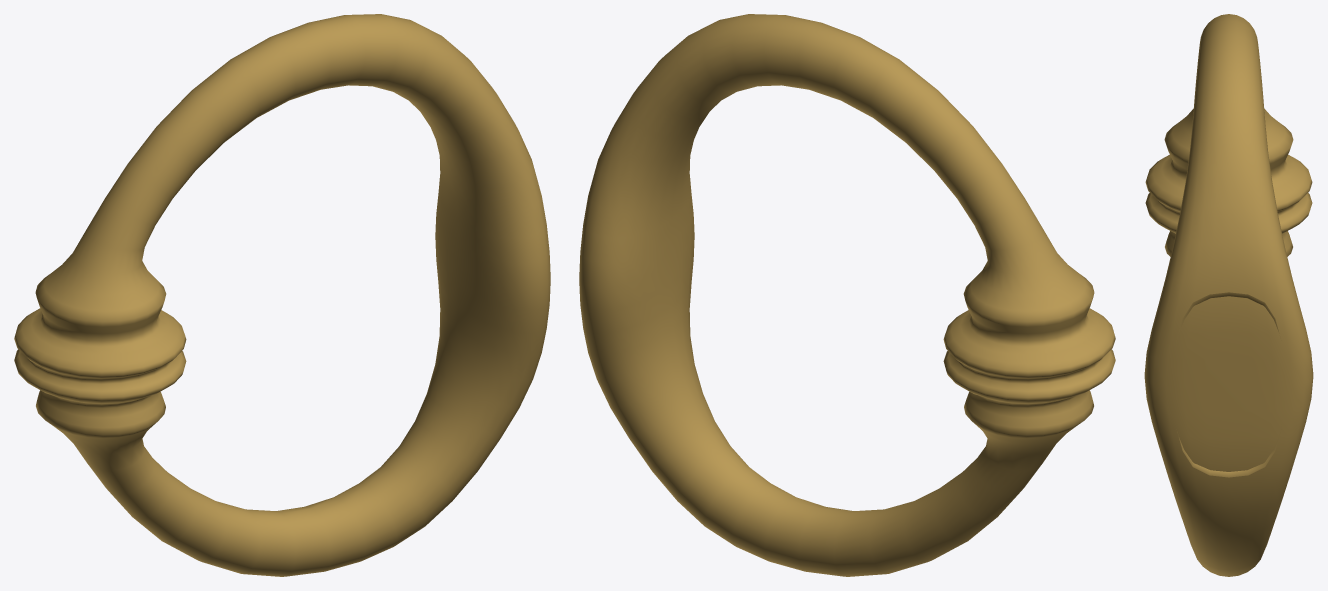
Rendered from Key1.fbx.
3 renders of one model, left to right at view 1: azimuth 30°, elevation 25°; view 2: azimuth 150°, elevation 25°; view 3: azimuth 270°, elevation 25°, orthographic. The views are drawn at different scales.
Visible parts, largest first — view 1: Mesh; view 2: Mesh; view 3: Mesh.
Boxes of the visible parts, left/top/right/bottom form: Mesh: left=14, top=14, right=550, bottom=576; Mesh: left=579, top=14, right=1115, bottom=576; Mesh: left=1144, top=14, right=1313, bottom=576.
Size of the model in its own units: 0.1563 by 0.1662 by 0.0492.
